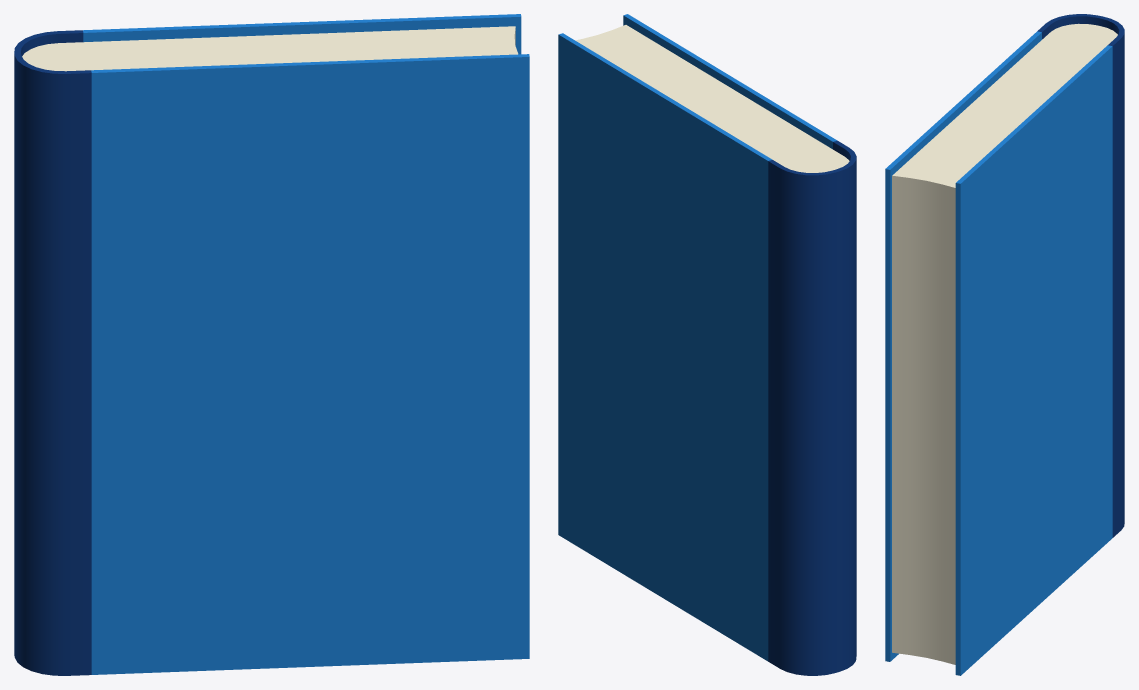
File: blue_book.glb
3 renders of one model, left to right at view 1: azimuth 30°, elevation 25°; view 2: azimuth 150°, elevation 25°; view 3: azimuth 270°, elevation 25°, orthographic. The views are drawn at different scales.
Parts seen in each view (by area): view 1: Cube.948; view 2: Cube.948; view 3: Cube.948.
Boxes of the visible parts, x1=… form: Cube.948: x1=14, y1=14, x2=529, y2=675; Cube.948: x1=558, y1=14, x2=856, y2=675; Cube.948: x1=885, y1=14, x2=1124, y2=675.
Size of the model in its own units: 1.55 by 2.1 by 0.9263.
1 material, 1 textured.
